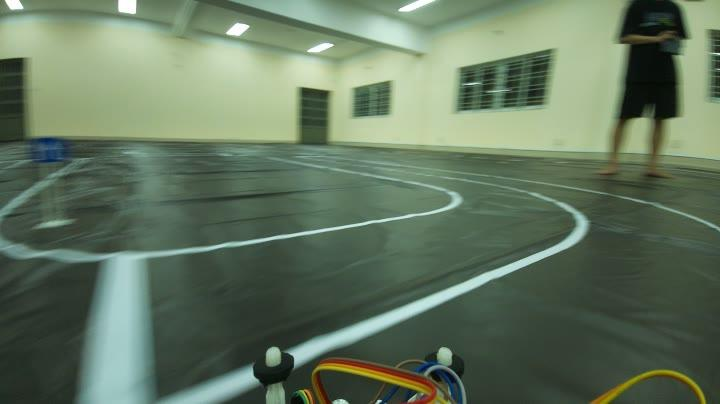onewayroad: (27, 133, 69, 166)
